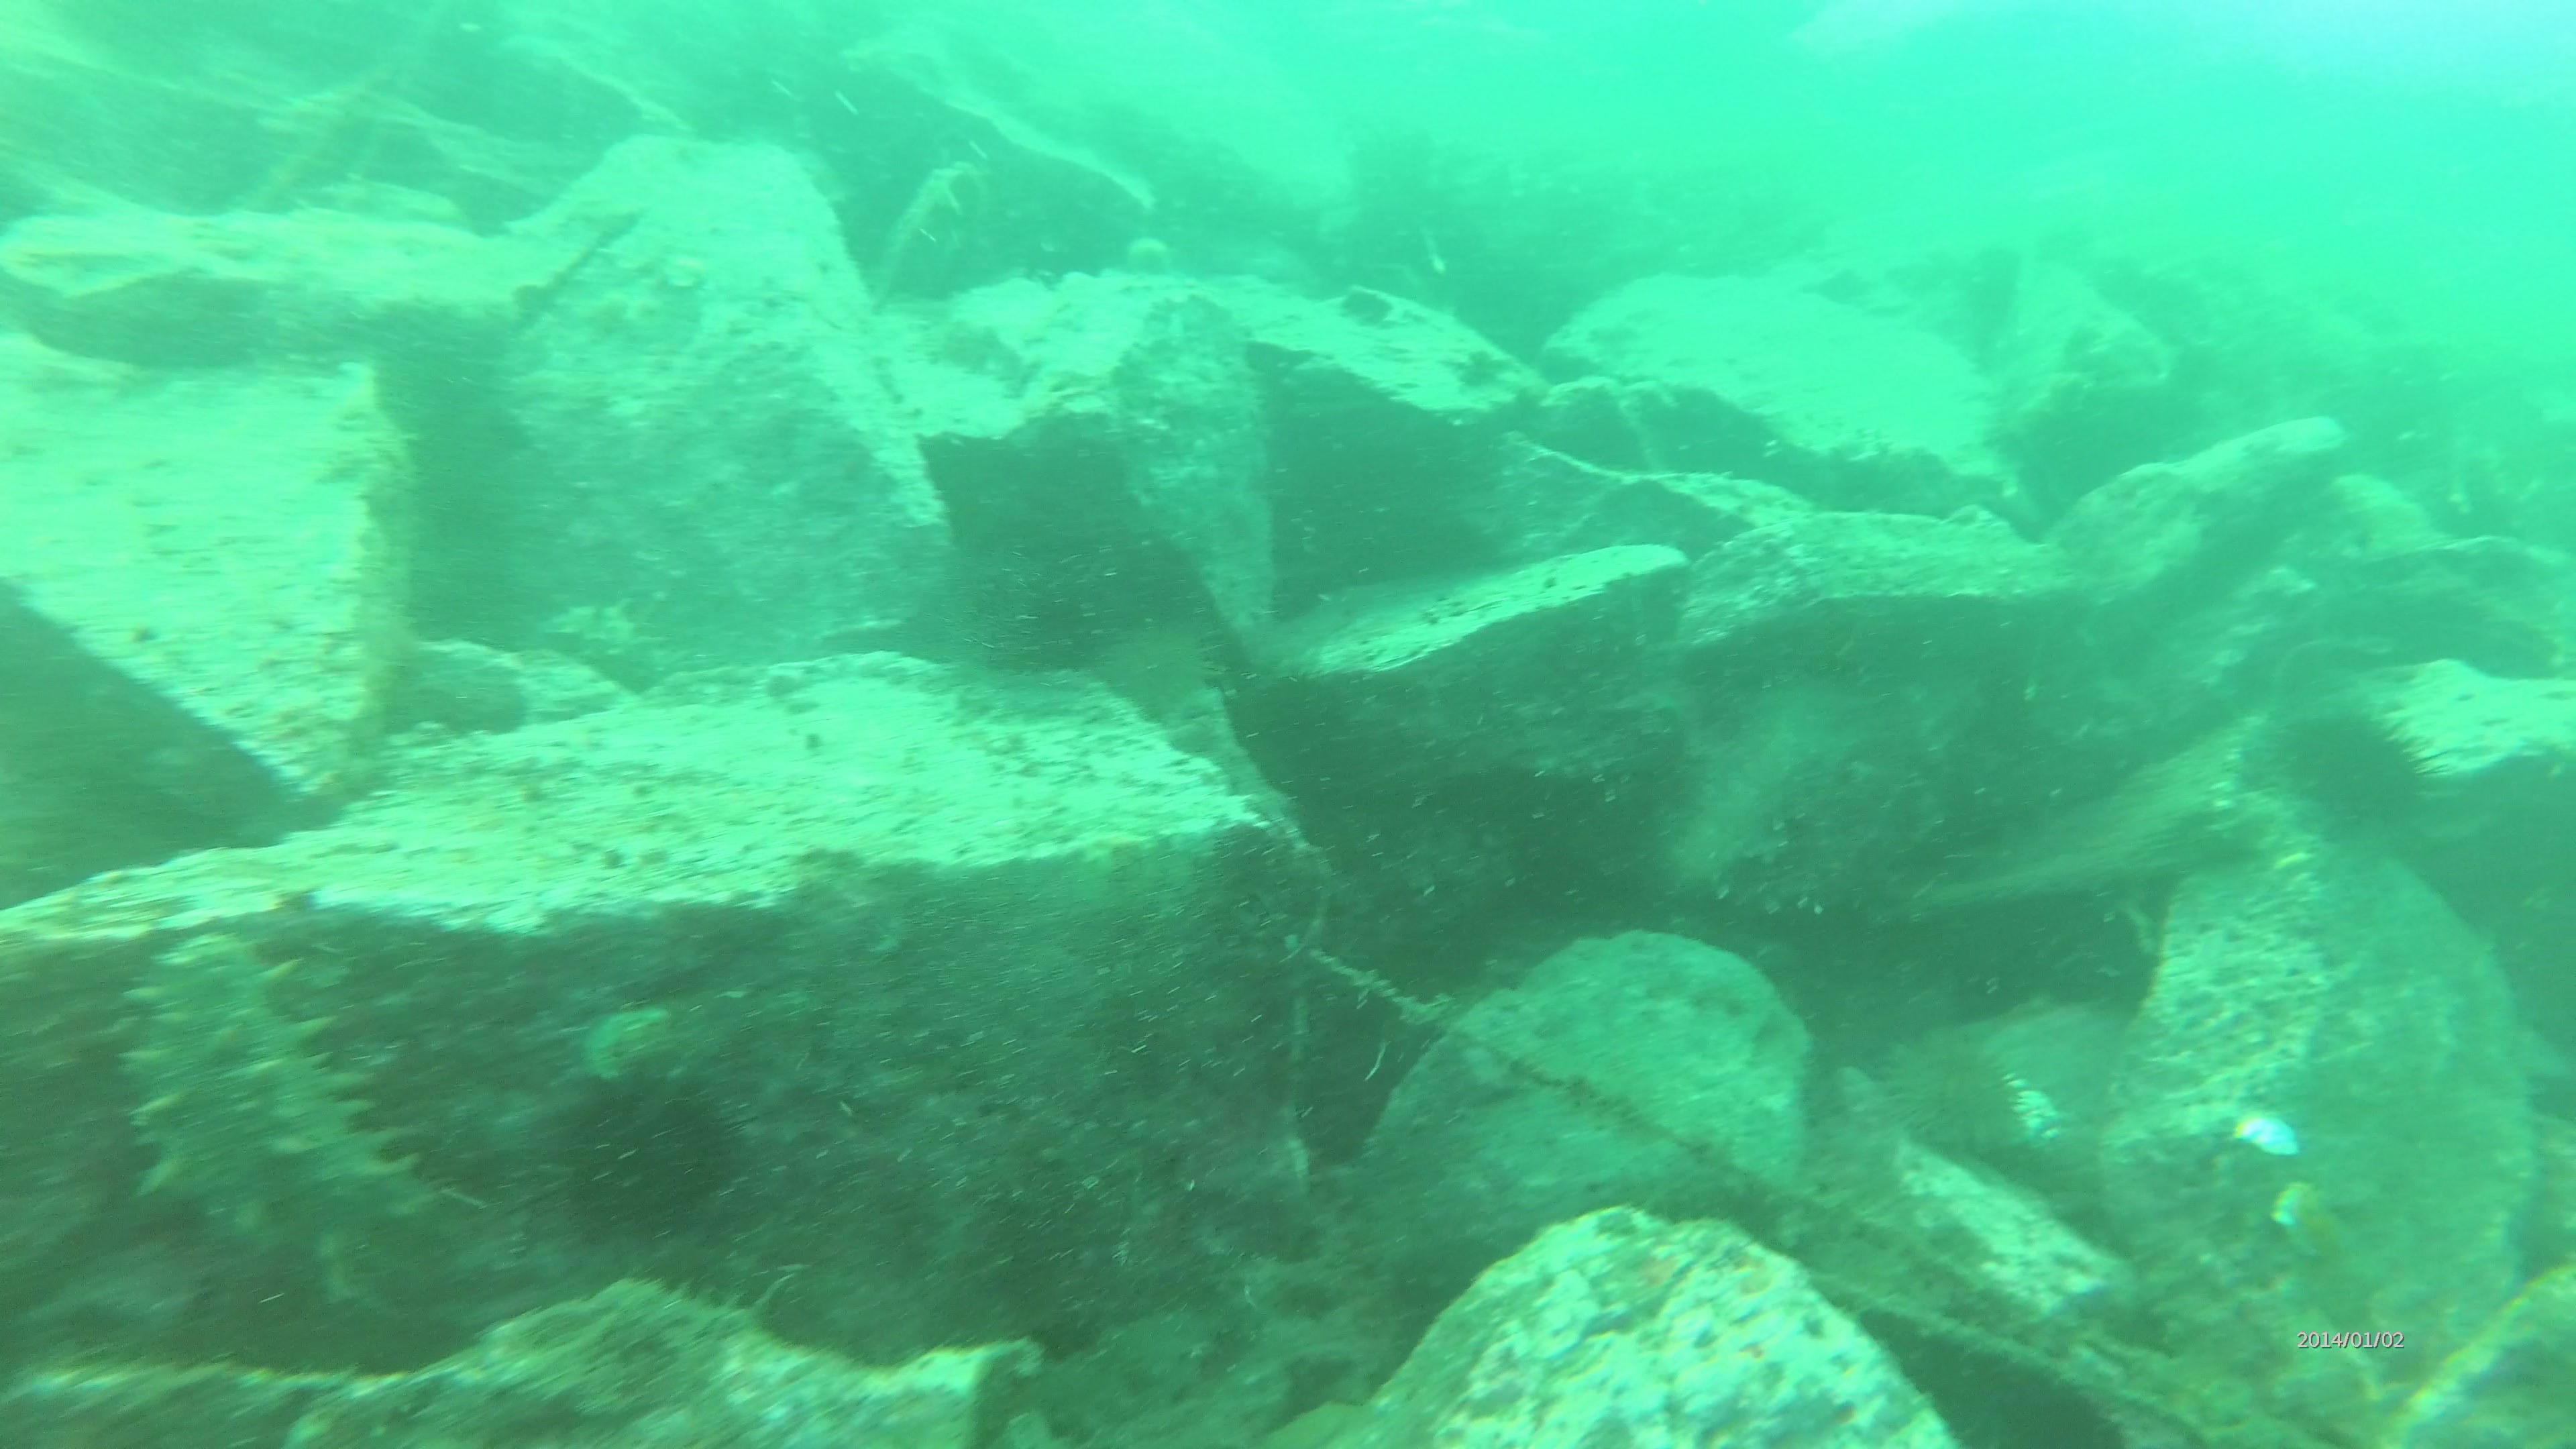echinus: (554, 1083, 747, 1238), (1852, 1019, 2040, 1173), (2259, 699, 2445, 847), (1093, 610, 1217, 727), (977, 580, 1102, 683)
holothurian: (96, 941, 449, 1283), (577, 1258, 777, 1353)
